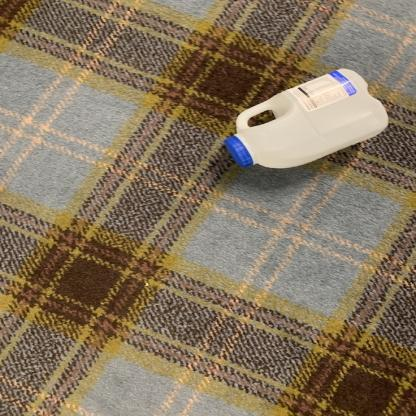trash: (221, 68, 392, 174)
